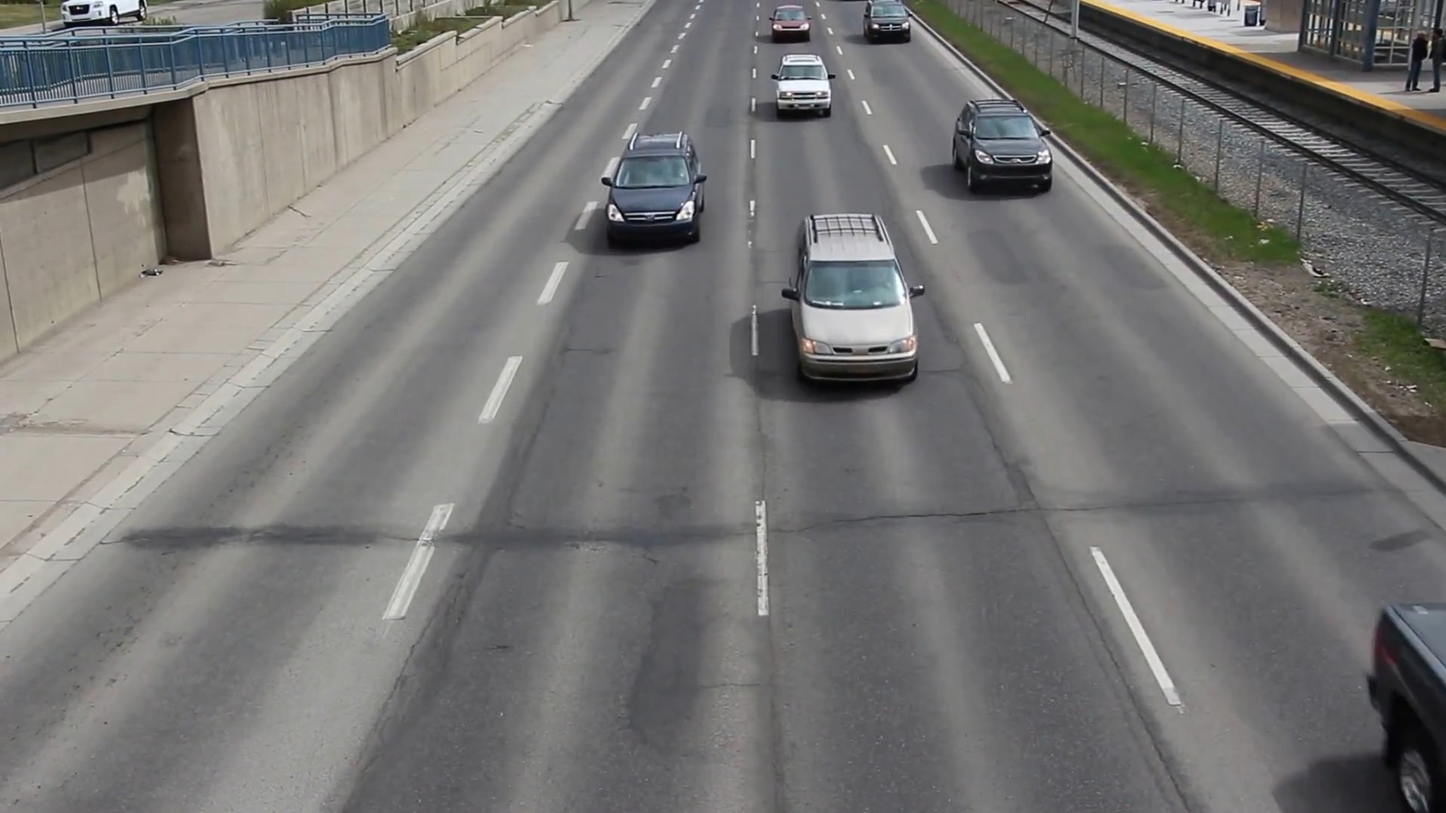car: (789, 209, 930, 389), (603, 126, 706, 249), (953, 98, 1061, 202), (769, 59, 835, 115)
